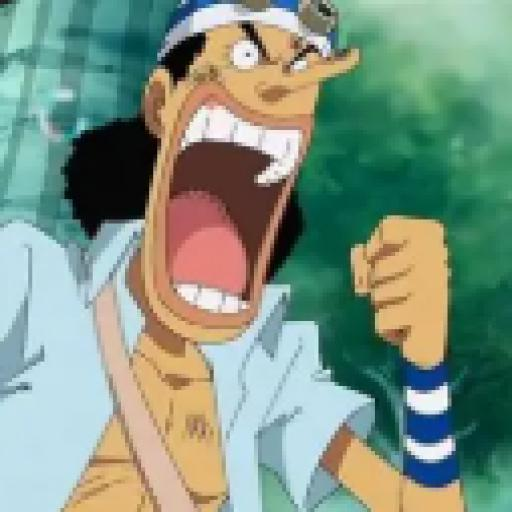Usopp: (0, 0, 468, 512)
